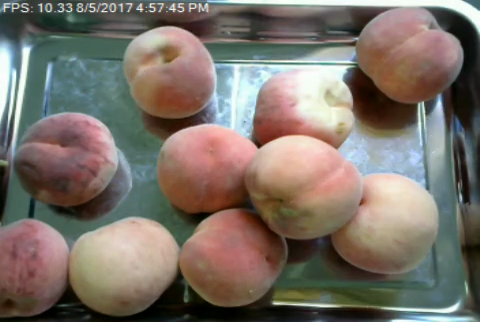Peach: (249, 136, 360, 239), (332, 174, 438, 274), (179, 208, 285, 308), (70, 217, 178, 315), (353, 7, 463, 103), (14, 112, 118, 205), (253, 66, 359, 157), (158, 123, 256, 214), (123, 26, 216, 119), (0, 219, 69, 315)
